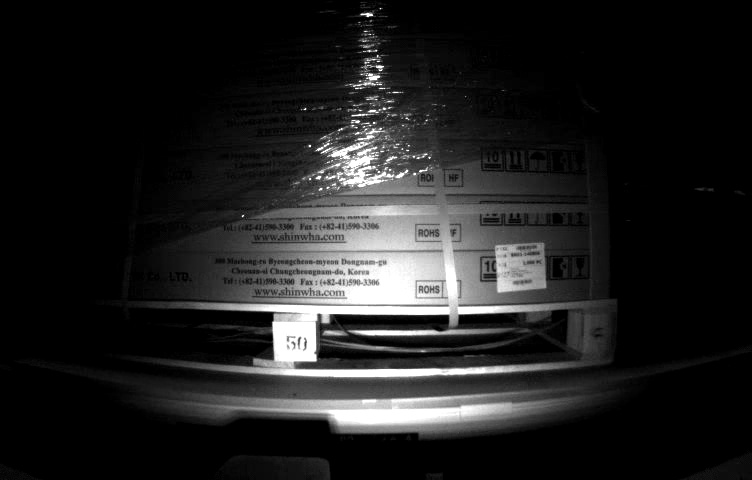True Barcode: (492, 239, 550, 291)
